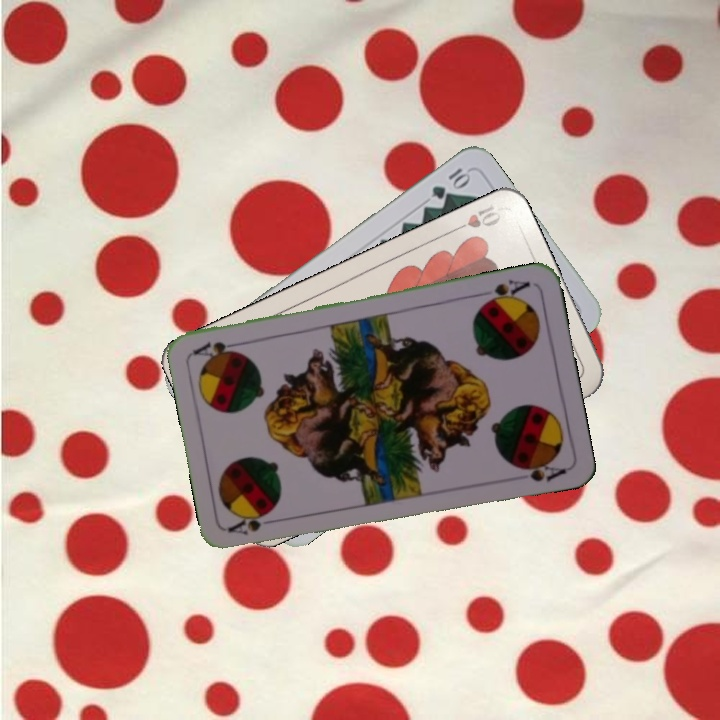G10: (427, 163, 473, 202)
H10: (447, 200, 503, 236)
SA: (476, 275, 533, 308), (225, 509, 283, 539)
